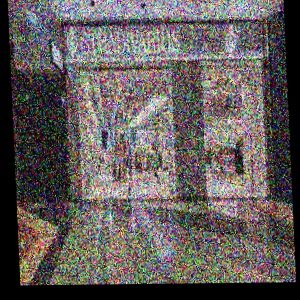stradivarius: (153, 0, 212, 51)
